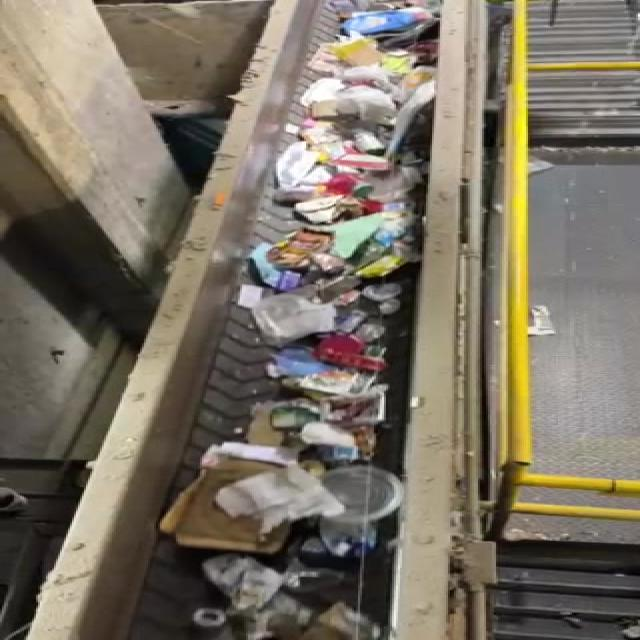metal: (166, 603, 252, 640)
paper: (155, 434, 304, 556)
pp: (303, 458, 421, 528), (300, 390, 397, 430)
